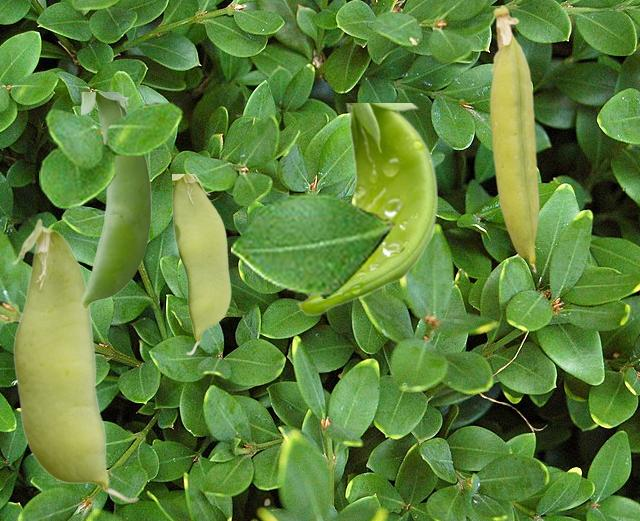pea: (11, 218, 139, 502), (296, 103, 436, 314), (81, 92, 150, 308), (489, 4, 539, 272), (172, 174, 230, 354)
